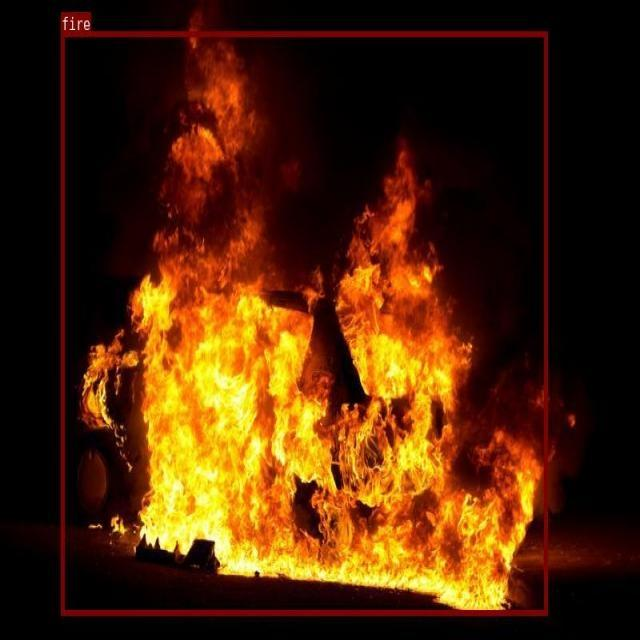fire: (61, 31, 547, 614)
